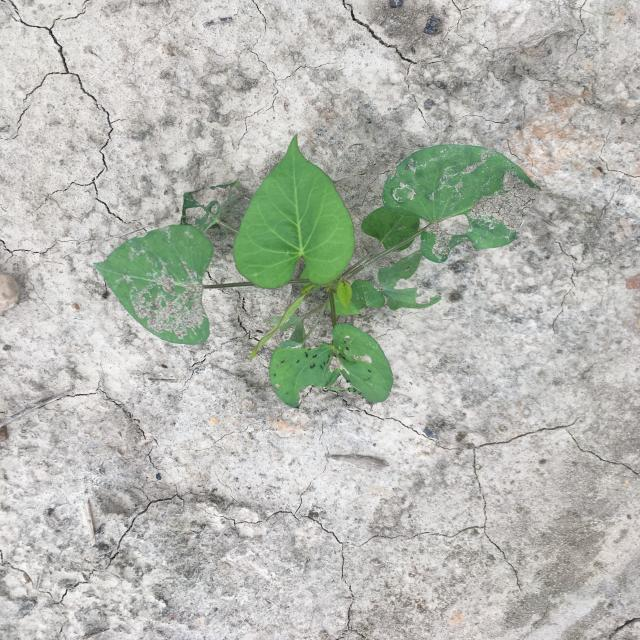MorningGlory: (93, 134, 542, 408)
